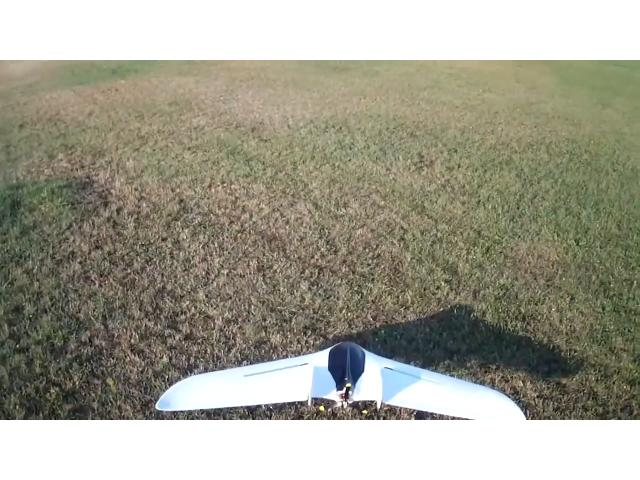Anti-Drone: (132, 336, 562, 420)
